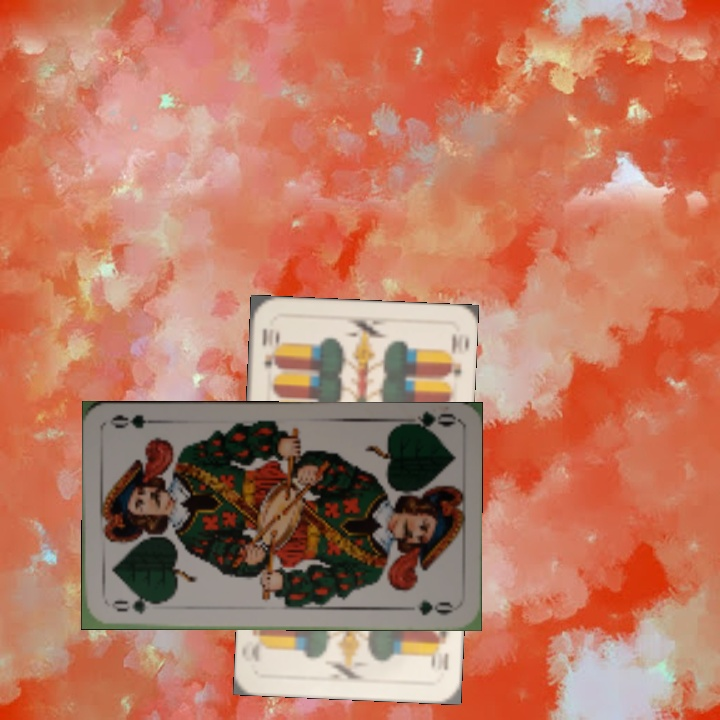E10: (257, 324, 283, 372), (427, 626, 452, 673)
GO: (397, 409, 456, 436), (107, 594, 165, 617)
